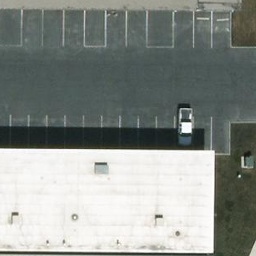car: (174, 106, 195, 150)
